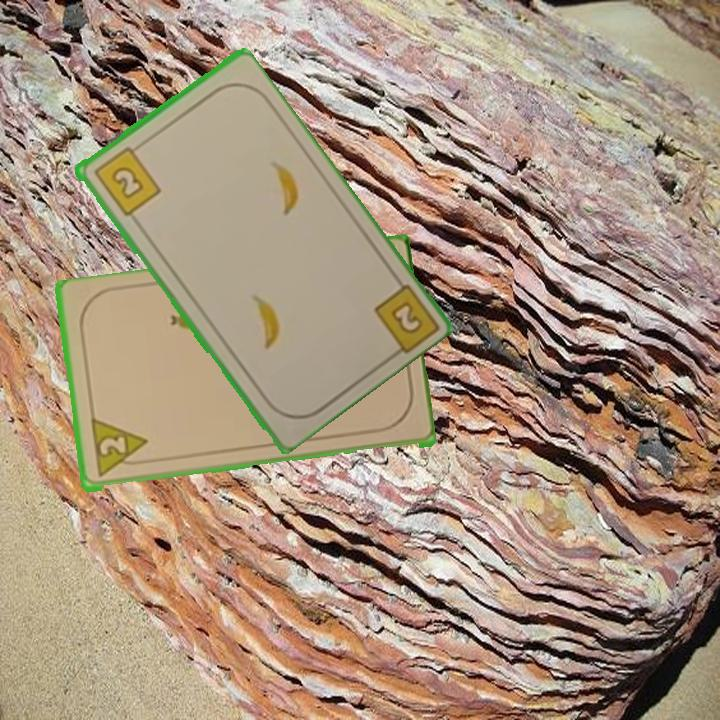2b: (89, 142, 163, 219), (386, 297, 426, 338)
2p: (87, 417, 152, 481)
